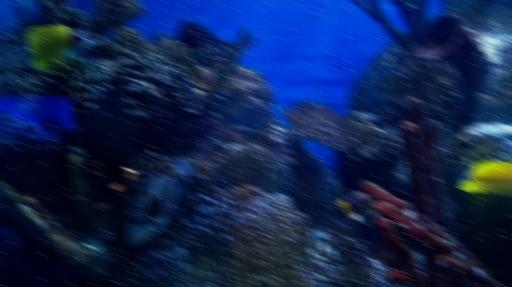Fish: (127, 160, 195, 245), (25, 25, 105, 70), (457, 161, 512, 196), (337, 190, 380, 226)
